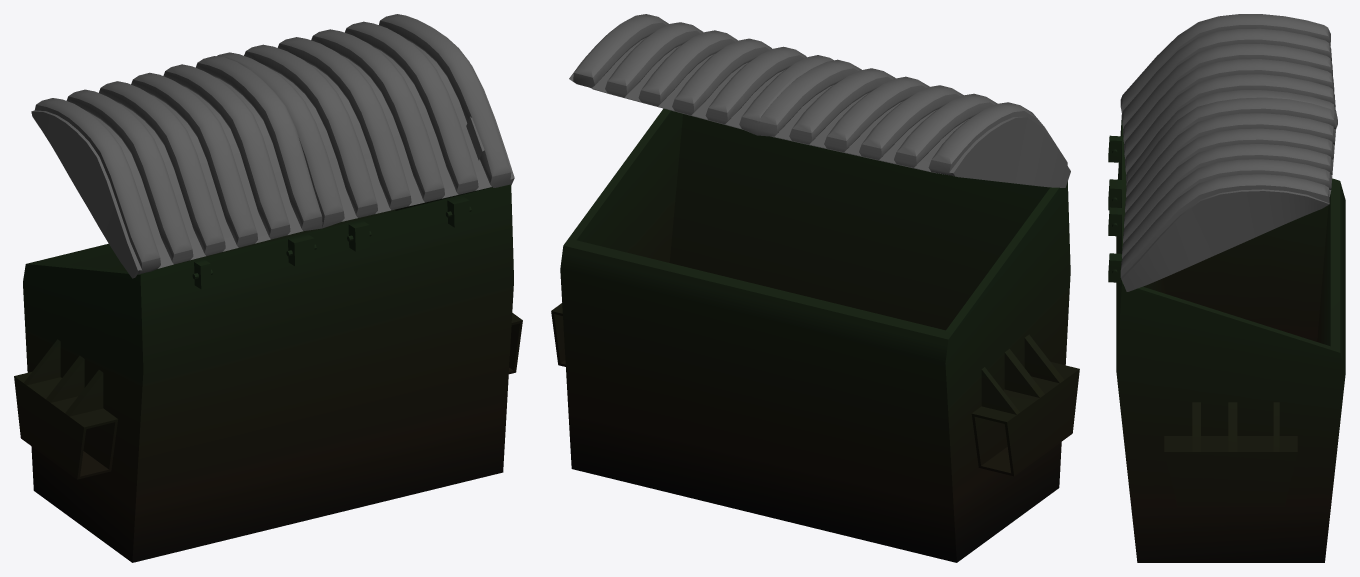
The model's file is Dumpster.fbx.
The picture shows the model from 3 angles, left to right: view 1: azimuth 30°, elevation 25°; view 2: azimuth 150°, elevation 25°; view 3: azimuth 270°, elevation 25°; orthographic projection. The views are drawn at different scales.
Parts seen in each view (by area): view 1: pCube1, pPlane2; view 2: pCube1, pPlane2; view 3: pCube1, pPlane2.
Part boxes in pixels (box(x1,y1,x2,y2)): pCube1: box(14, 184, 522, 562); pPlane2: box(31, 14, 514, 278); pCube1: box(551, 108, 1079, 562); pPlane2: box(569, 14, 1070, 187); pCube1: box(1108, 116, 1345, 562); pPlane2: box(1120, 14, 1337, 291).
Bounding box in the file's own units: 474 × 413 × 234.
2 materials, 1 textured.
